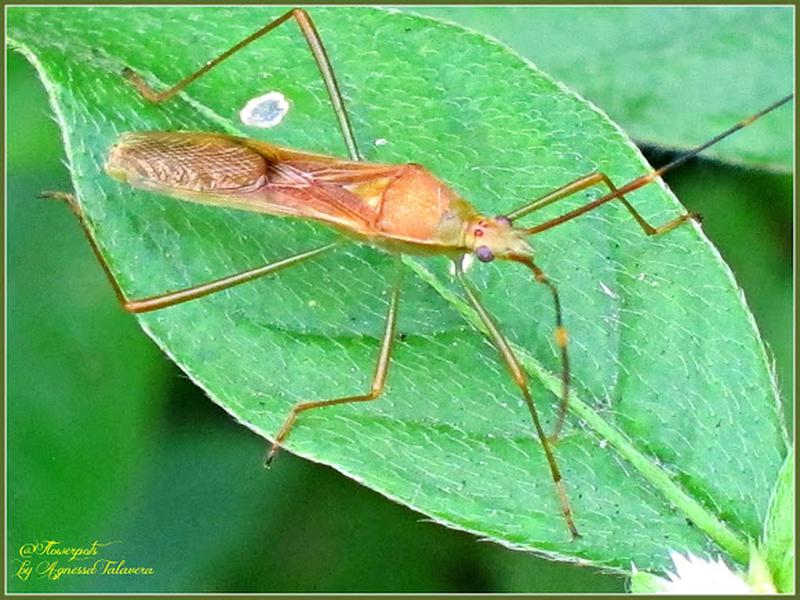Rice_earhead_bug: (78, 113, 567, 349)
